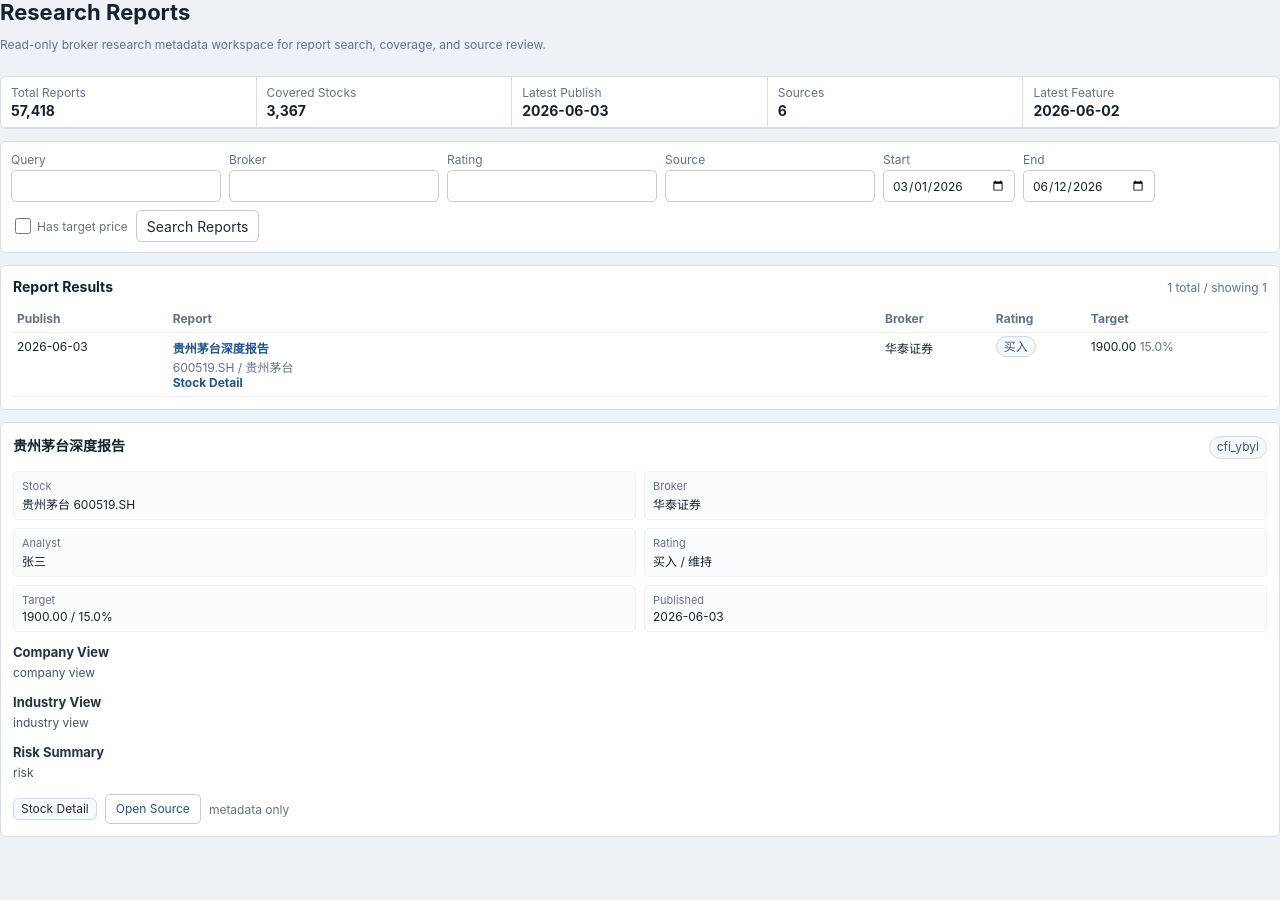
Test: ResearchReportsWorkspace › shows a clear fallback when the selected research report has no local PDF
What coordinates should you click on to do the following:
click the button with aria-label "Open report 贵州茅台深度报告"
I would click on:
 (221, 348)
Its box is x1=173 y1=339 x2=269 y2=356.
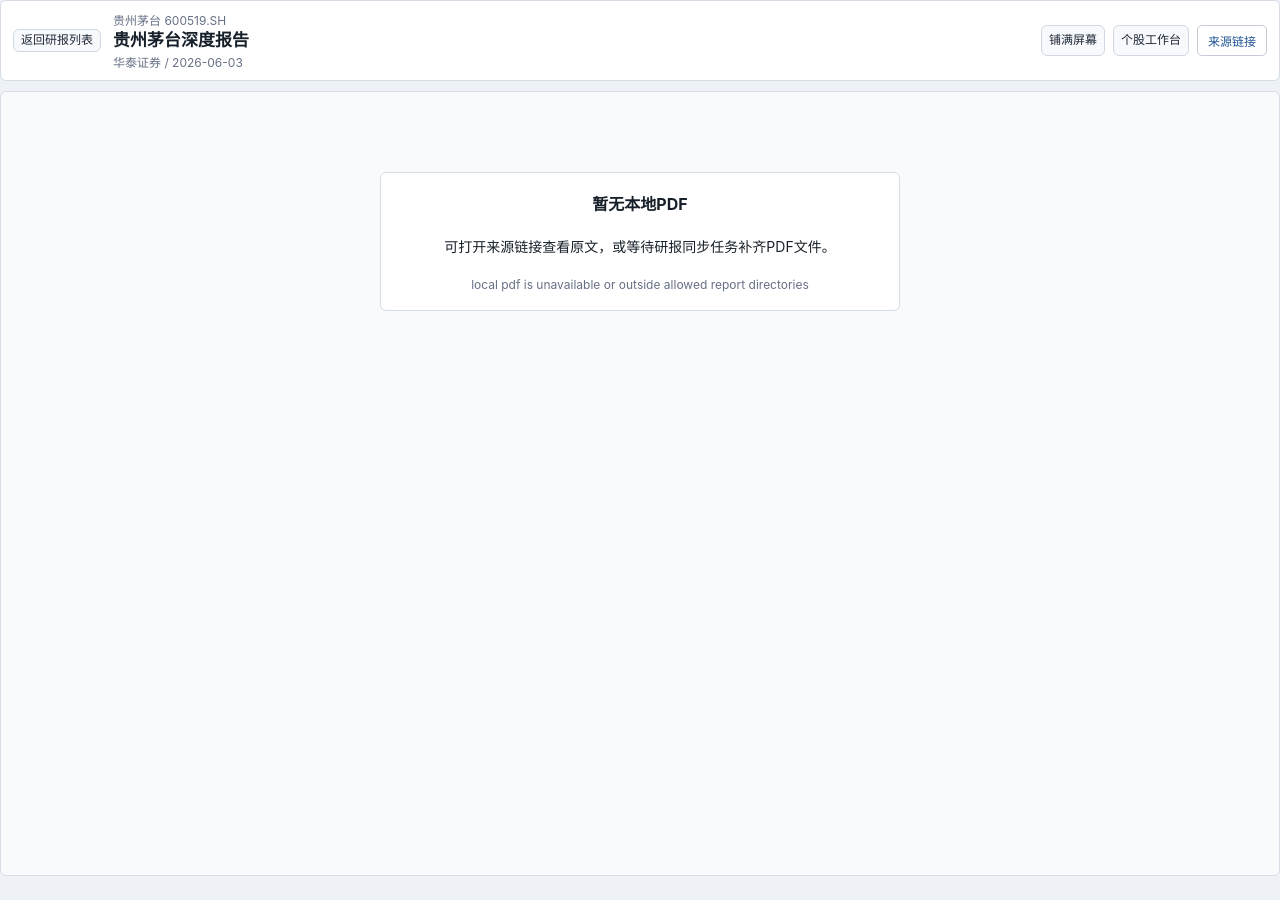
Now the text "暂无本地PDF" is shown, box x1=592 y1=194 x2=688 y2=214
Now the text "可打开来源链接查看原文，或等待研报同步任务补齐PDF文件。" is shown, box x1=444 y1=238 x2=836 y2=255
